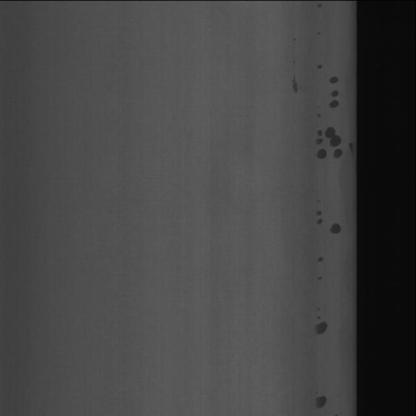oil_spot: (316, 112, 349, 171), (312, 198, 330, 287), (290, 34, 305, 104), (326, 60, 346, 110), (315, 5, 326, 80), (314, 306, 330, 349), (314, 382, 328, 416), (332, 221, 345, 240)
